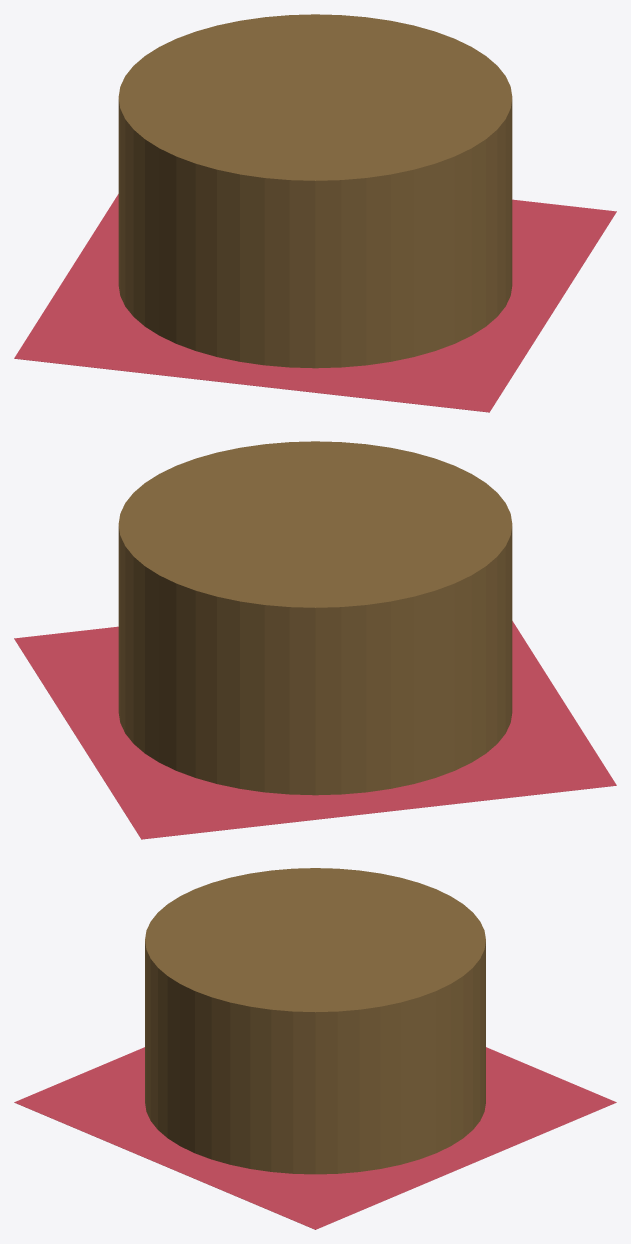
The model's file is CCC.glb.
The picture shows the model from 3 angles, top to bottom: view 1: azimuth 30°, elevation 25°; view 2: azimuth 150°, elevation 25°; view 3: azimuth 270°, elevation 25°; orthographic projection. The views are drawn at different scales.
Parts seen in each view (by area): view 1: Mesh_Mesh_head_geo.001_lambert2SG.001; view 2: Mesh_Mesh_head_geo.001_lambert2SG.001; view 3: Mesh_Mesh_head_geo.001_lambert2SG.001.
Boxes of the visible parts, box(x1,y1,x2,y2) form: Mesh_Mesh_head_geo.001_lambert2SG.001: box(14, 14, 616, 412); Mesh_Mesh_head_geo.001_lambert2SG.001: box(14, 441, 616, 839); Mesh_Mesh_head_geo.001_lambert2SG.001: box(14, 868, 616, 1229).
Size of the model in its own units: 0.0354 by 0.0105 by 0.0354.
